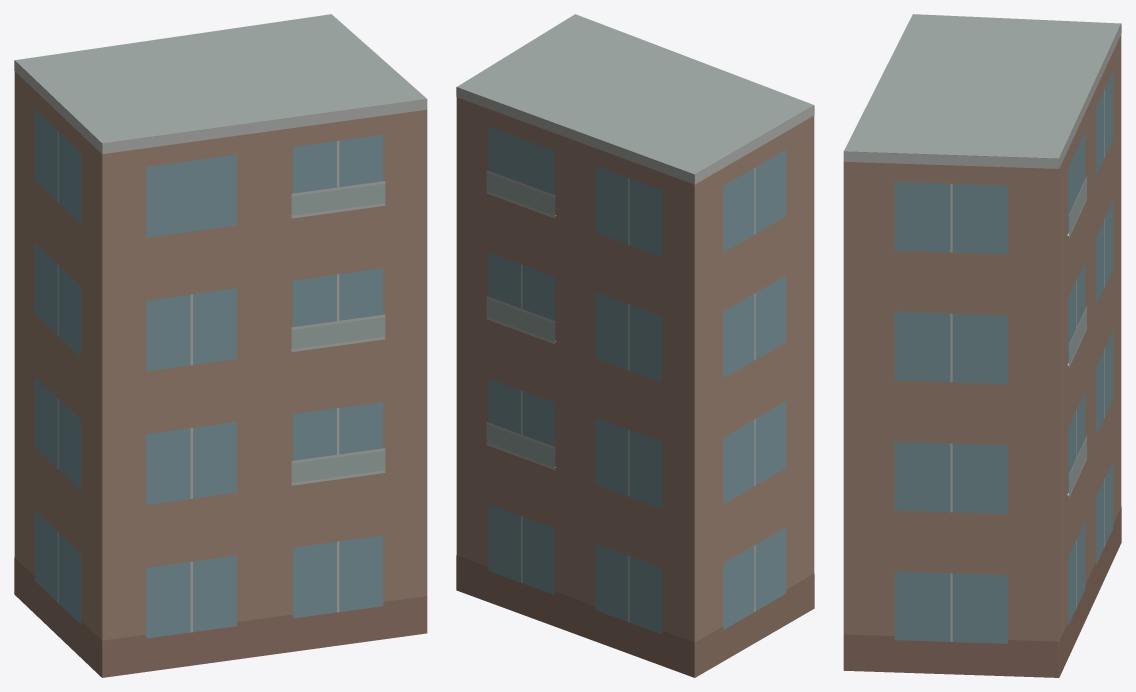
Rendered from survey-upis-32756273.glb.
3 views of the same model, side by side, from view 1: azimuth 30°, elevation 25°; view 2: azimuth 150°, elevation 25°; view 3: azimuth 270°, elevation 25° (orthographic). The views are drawn at different scales.
Parts seen in each view (by area): view 1: survey-upis-32756273.tmp; view 2: survey-upis-32756273.tmp; view 3: survey-upis-32756273.tmp.
Boxes of the visible parts, <box> form: survey-upis-32756273.tmp: <box>14,14,427,677</box>; survey-upis-32756273.tmp: <box>456,14,814,677</box>; survey-upis-32756273.tmp: <box>843,14,1121,677</box>.
Bounding box in the file's own units: 7.23 × 12.1 × 5.87.
